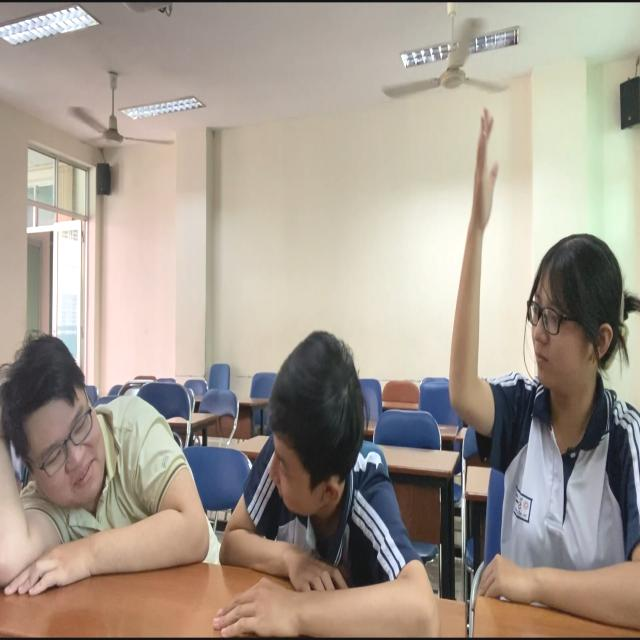raise_hand: (417, 108, 640, 640)
